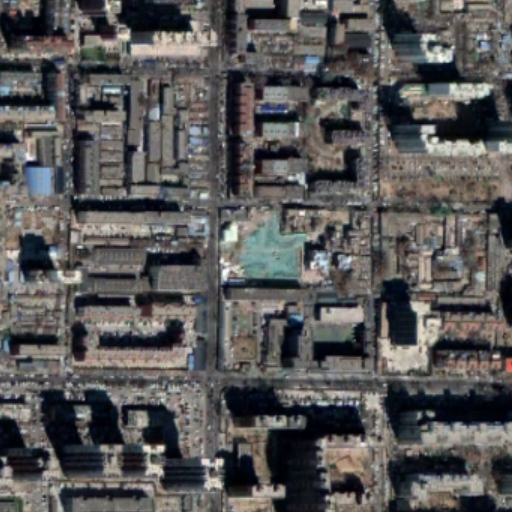cw: (236, 204, 303, 277)
